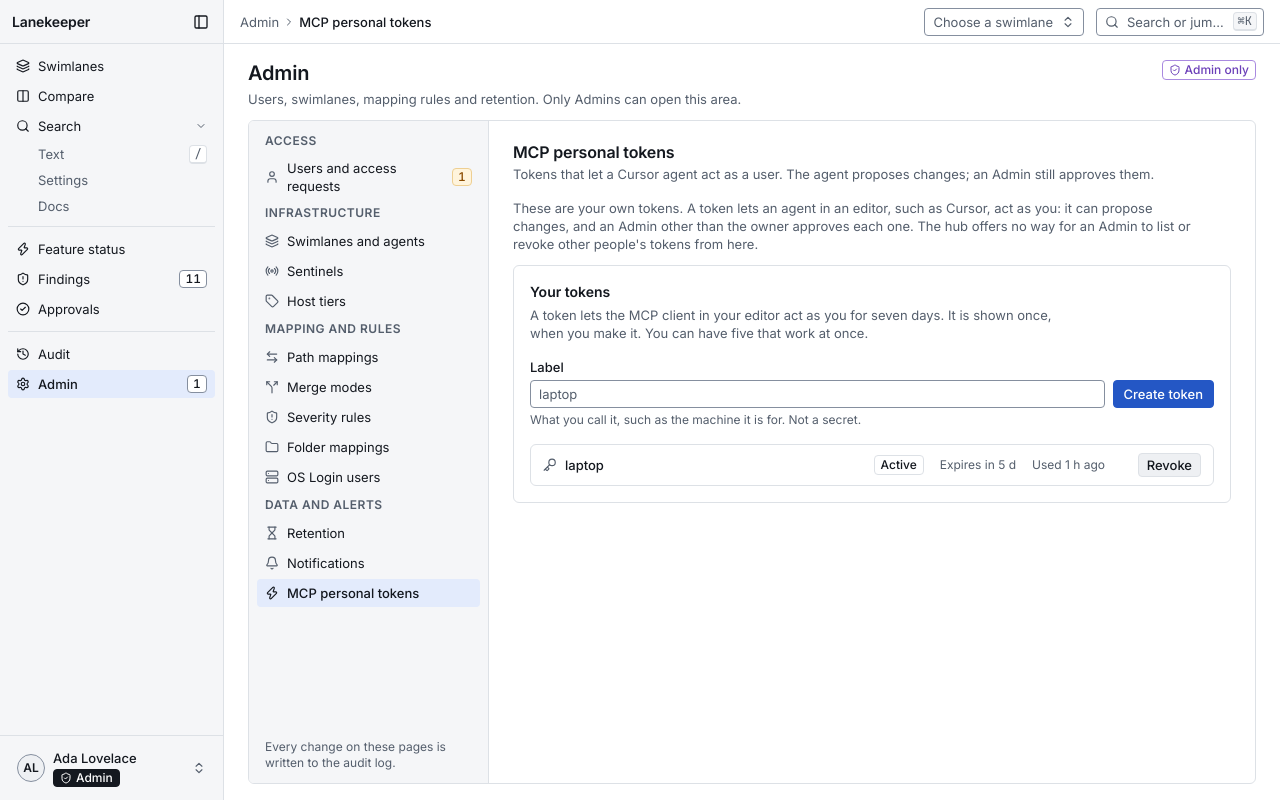
the section › revokes a token after a dialog, and the list shows it revoked
Expected: the heading "Admin" is shown, [248,61,309,85]
Click the button with aria-label "Revoke laptop": (1169, 465) [1138,453,1201,477]
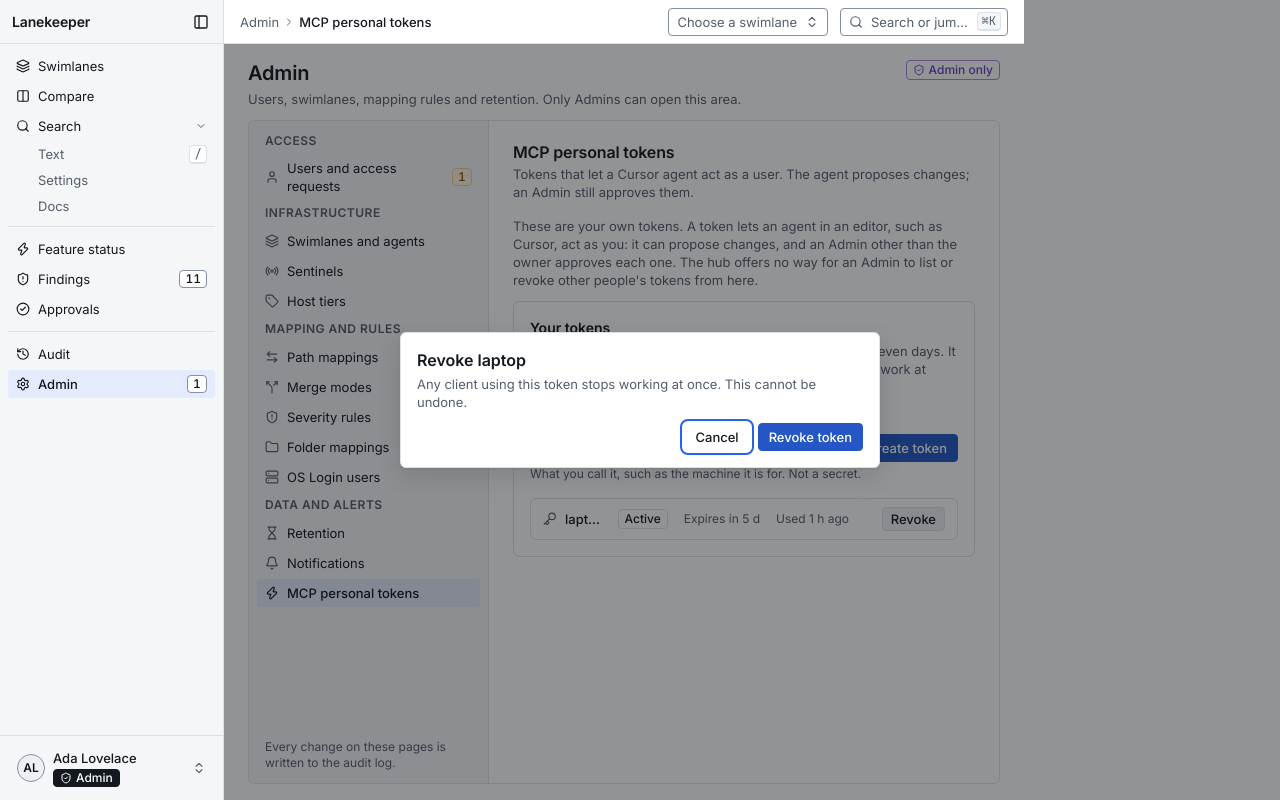
Click the button "Revoke token": (810, 437) [758,423,863,451]
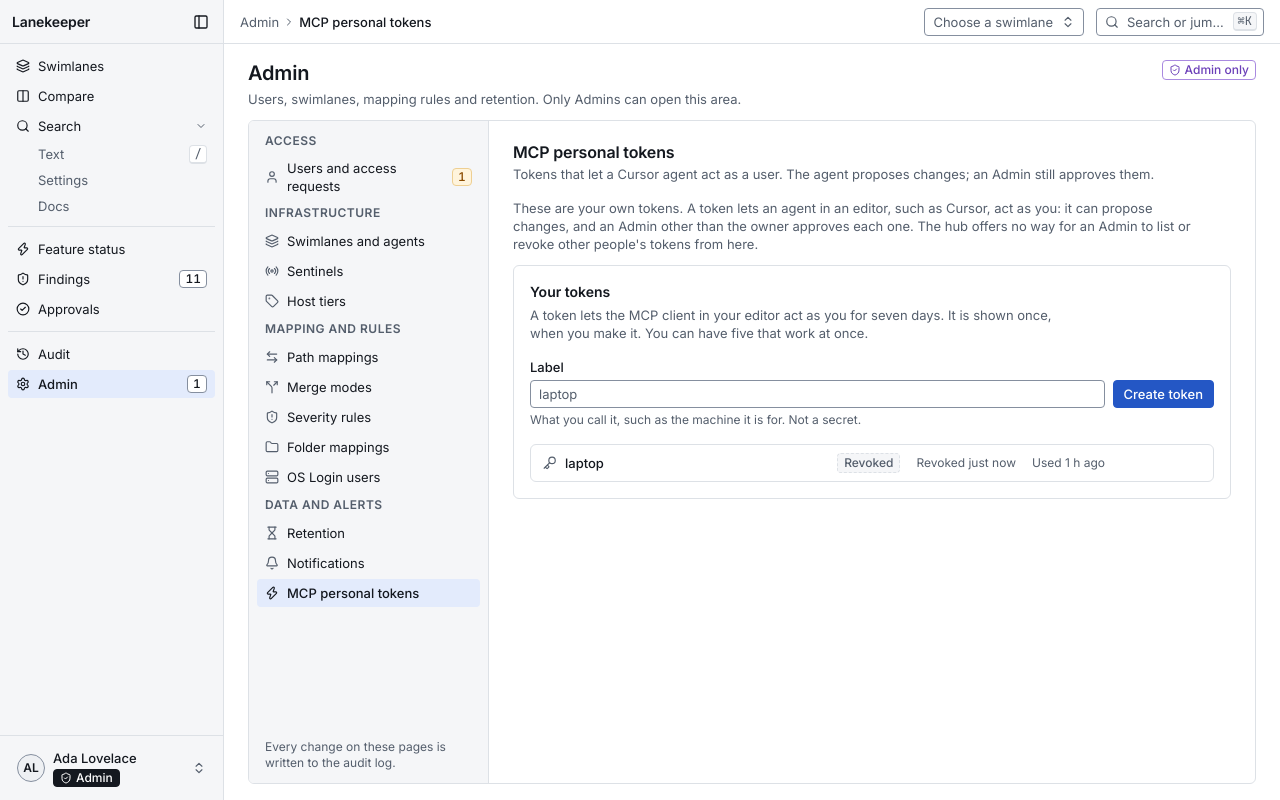
Now the dialog is gone
Now the text "Revoked" is shown, box [837,453,900,473]
